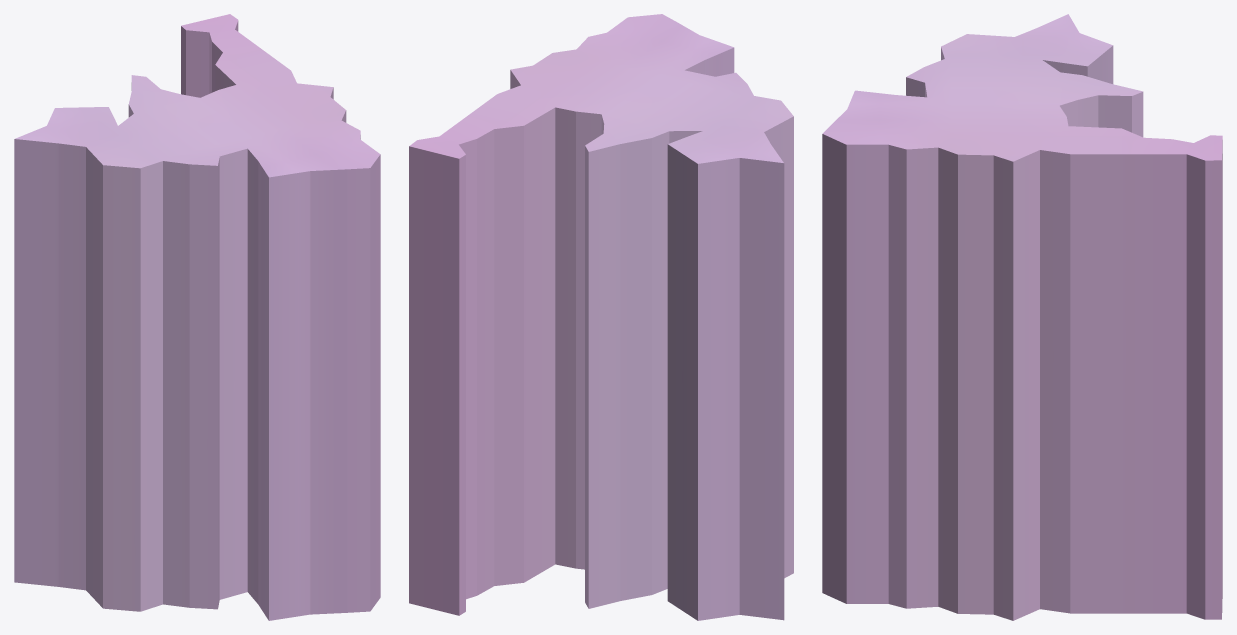
Rendered from monmouth beach.glb.
3 renders of one model, left to right at view 1: azimuth 30°, elevation 25°; view 2: azimuth 150°, elevation 25°; view 3: azimuth 270°, elevation 25°, orthographic. The views are drawn at different scales.
Parts seen in each view (by area): view 1: Plane.031; view 2: Plane.031; view 3: Plane.031.
Part boxes in pixels (x1,y1,x2,y2): Plane.031: [14, 14, 380, 620]; Plane.031: [409, 14, 793, 620]; Plane.031: [822, 14, 1222, 620].
Bounding box in the file's own units: 0.266 × 0.3856 × 0.3045.
1 material, 1 textured.
